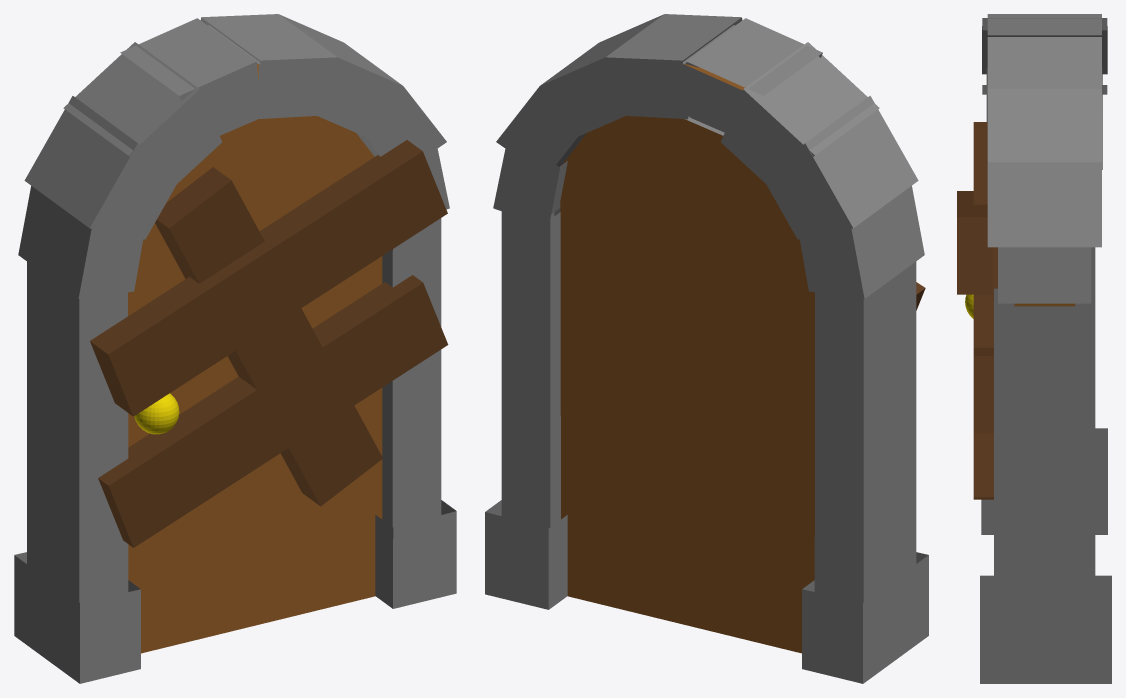
Rendered from Dooreksamen.fbx.
The picture shows the model from 3 angles, left to right: view 1: azimuth 30°, elevation 25°; view 2: azimuth 150°, elevation 25°; view 3: azimuth 270°, elevation 25°; orthographic projection. The views are drawn at different scales.
Parts seen in each view (by area): view 1: Cube.003; view 2: Cube.003; view 3: Cube.003.
Part boxes in pixels (x1,y1,x2,y2): Cube.003: [14, 14, 456, 683]; Cube.003: [485, 14, 928, 683]; Cube.003: [957, 14, 1111, 683].
Bounding box in the file's own units: 208 × 305 × 76.85.
